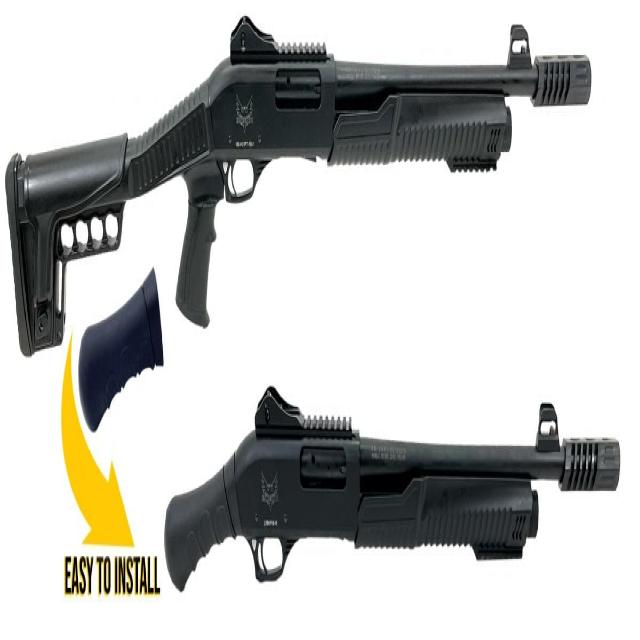ShotGun: (5, 17, 594, 356), (163, 392, 622, 595)
